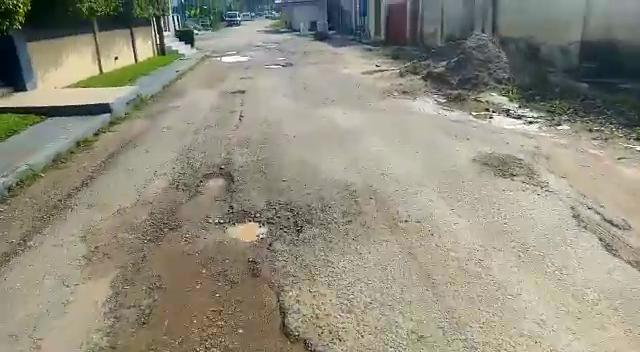pothole: (226, 200, 320, 244), (197, 170, 232, 193), (206, 54, 254, 63)
